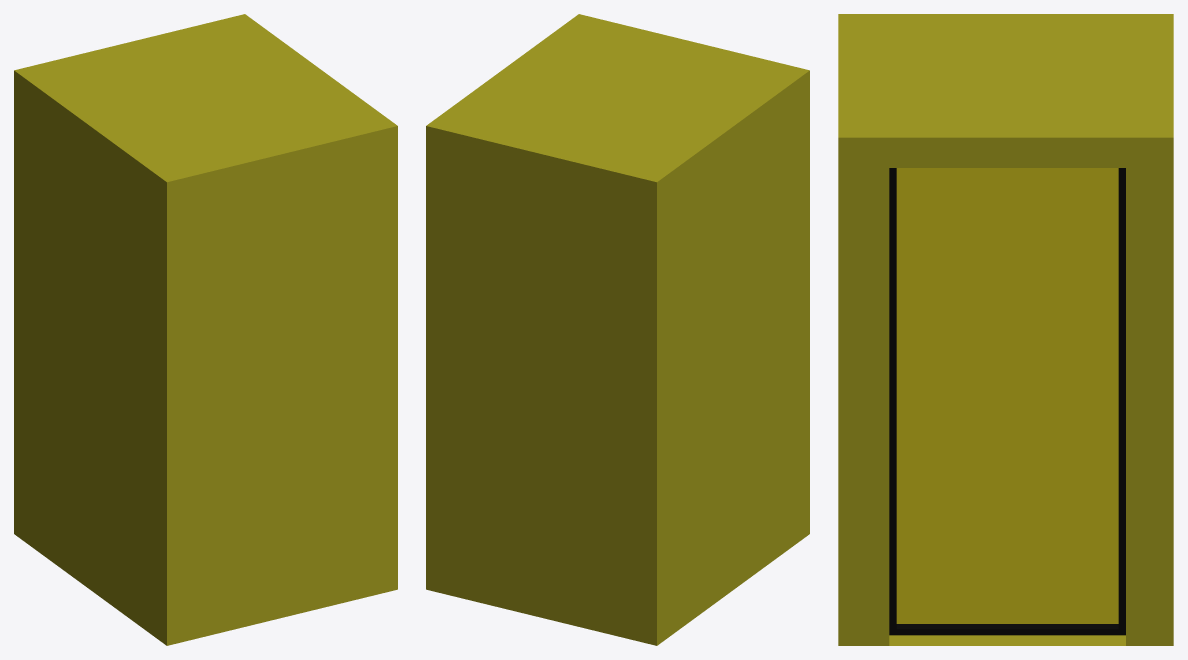
File: puerta amarilla.fbx
3 renders of one model, left to right at view 1: azimuth 30°, elevation 25°; view 2: azimuth 150°, elevation 25°; view 3: azimuth 270°, elevation 25°, orthographic. The views are drawn at different scales.
Visible parts, largest first — view 1: Cube; view 2: Cube; view 3: Cube.
Part boxes in pixels (box(x1,y1,x2,y2)): Cube: box(14, 14, 397, 645); Cube: box(426, 14, 809, 645); Cube: box(838, 14, 1173, 645).
Bounding box in the file's own units: 200 × 384 × 229.
